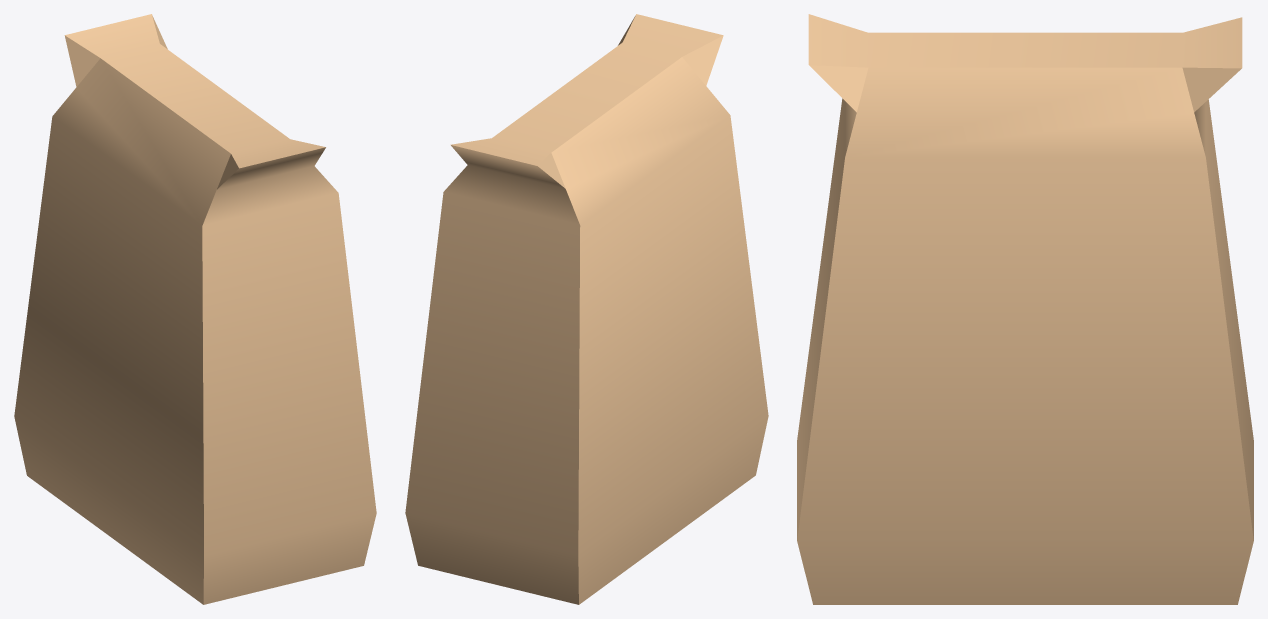
The model's file is handbag-zippered-purple.glb.
3 views of the same model, side by side, from view 1: azimuth 30°, elevation 25°; view 2: azimuth 150°, elevation 25°; view 3: azimuth 270°, elevation 25° (orthographic). The views are drawn at different scales.
Visible parts, largest first — view 1: bag; view 2: bag; view 3: bag.
Boxes of the visible parts, bbox=[...] form: bag: bbox=[14, 14, 376, 604]; bag: bbox=[405, 14, 768, 604]; bag: bbox=[797, 14, 1253, 604].
Size of the model in its own units: 0.2421 by 0.5758 by 0.4612.
